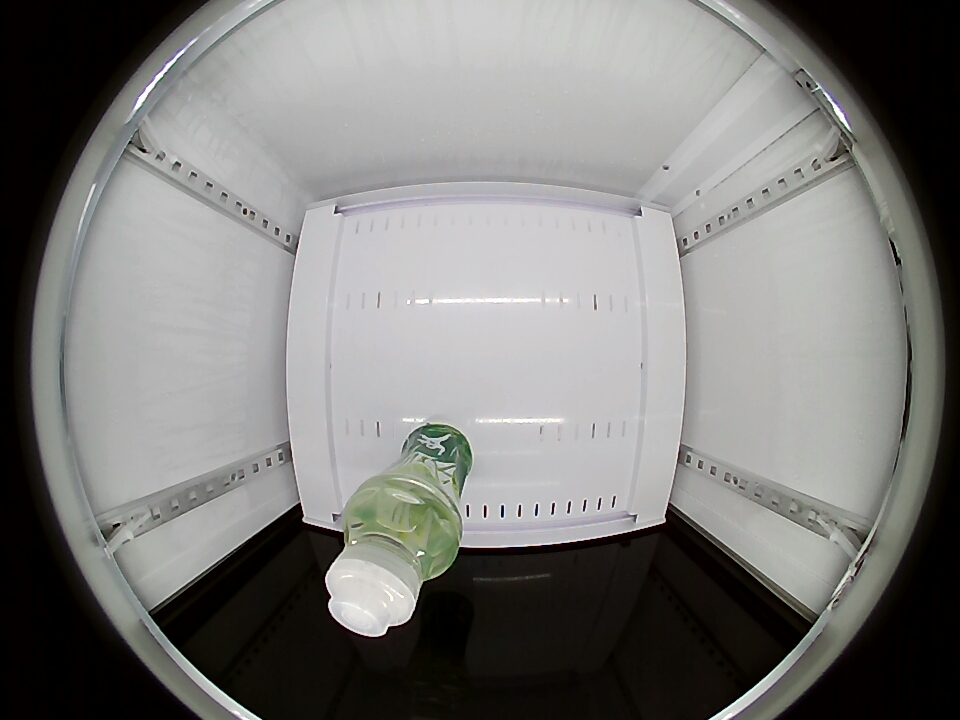jianjiao: (325, 489, 459, 637)
